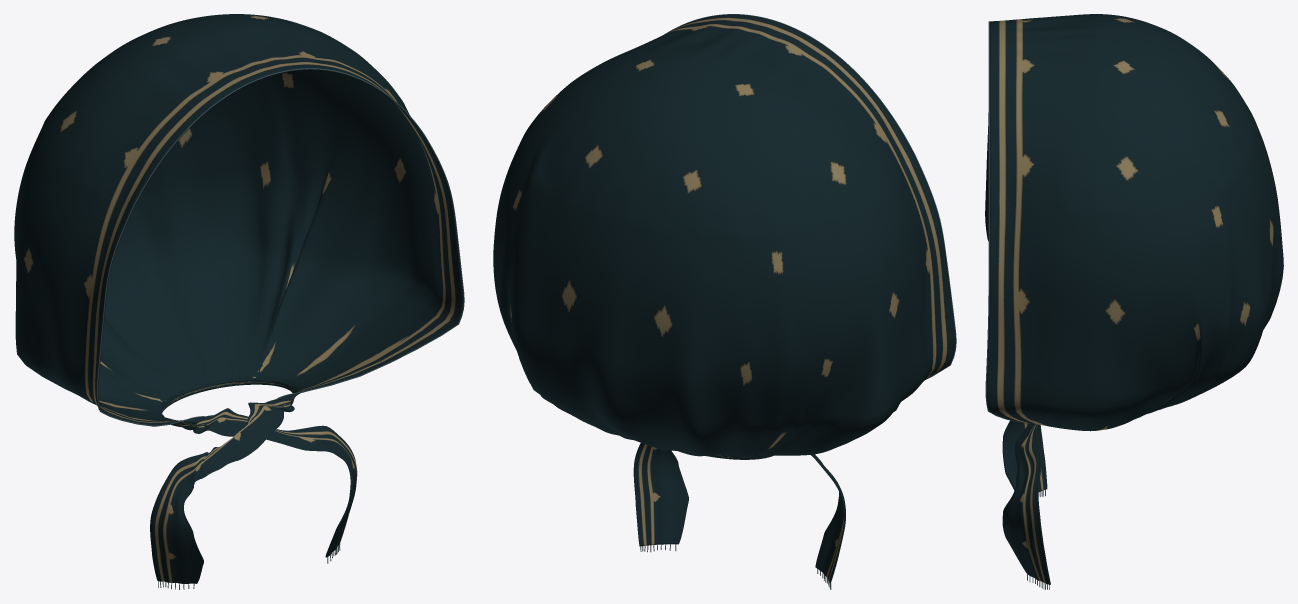
The model's file is Feminine-tshirt-pashmina245-headgear.glb.
3 renders of one model, left to right at view 1: azimuth 30°, elevation 25°; view 2: azimuth 150°, elevation 25°; view 3: azimuth 270°, elevation 25°, orthographic. The views are drawn at different scales.
Visible parts, largest first — view 1: 226 headgear / Headwear / continuous woven pashmina239, 226 headgear / Headwear / face edge239; view 2: 226 headgear / Headwear / continuous woven pashmina239, 226 headgear / Headwear / face edge239; view 3: 226 headgear / Headwear / continuous woven pashmina239, 226 headgear / Headwear / face edge239.
Part boxes in pixels (<box>): 226 headgear / Headwear / continuous woven pashmina239: <box>14,14,463,583</box>; 226 headgear / Headwear / face edge239: <box>96,68,464,426</box>; 226 headgear / Headwear / continuous woven pashmina239: <box>493,14,955,583</box>; 226 headgear / Headwear / face edge239: <box>664,14,956,379</box>; 226 headgear / Headwear / continuous woven pashmina239: <box>985,14,1283,584</box>; 226 headgear / Headwear / face edge239: <box>985,21,1026,423</box>.
Size of the model in its own units: 1.02 by 1.35 by 0.7116.
Materials: 3 (1 with a texture image).
